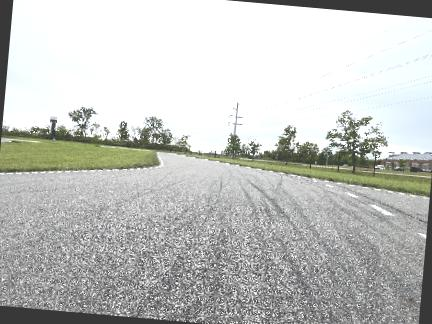Grass: (188, 155, 430, 196), (0, 140, 158, 172)
Lane: (0, 153, 429, 323)
